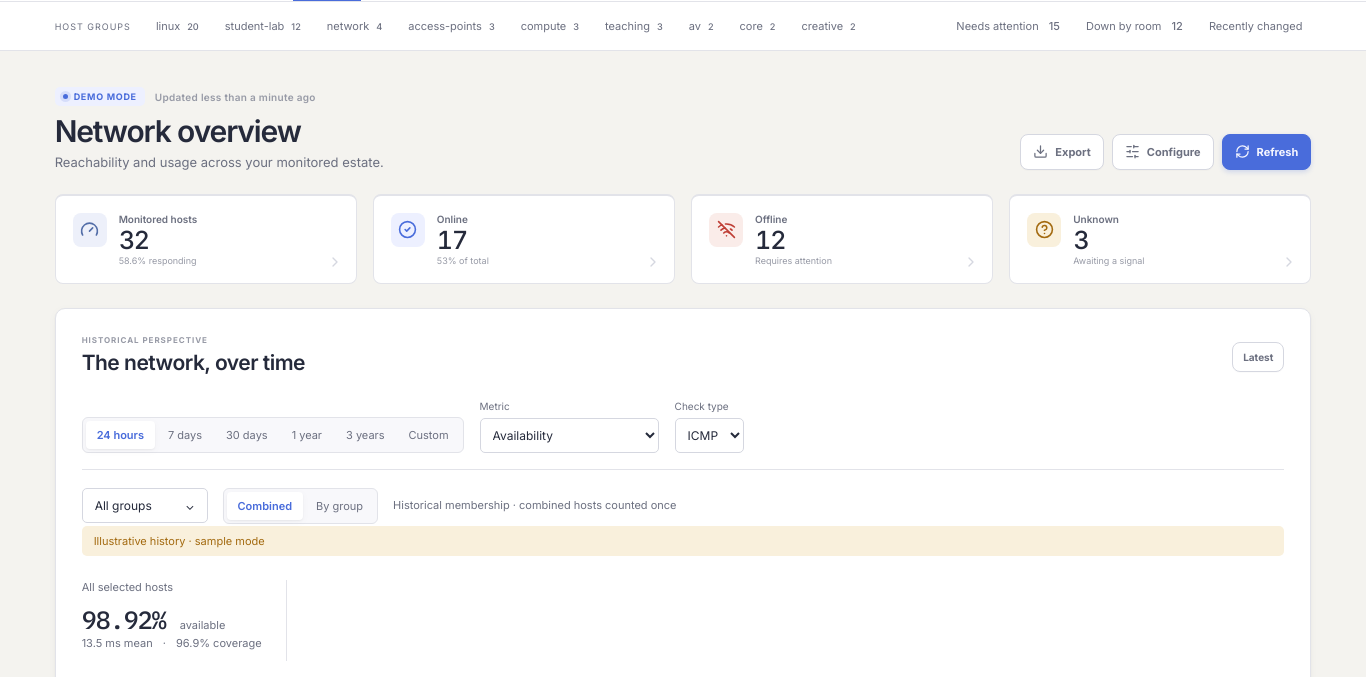
Test: network overview › loads the attention view and can switch to all hosts
Click the button "Monitored hosts 32 58.6% responding".
click(90, 230)  # box [55,194,357,284]
(page scrolled)
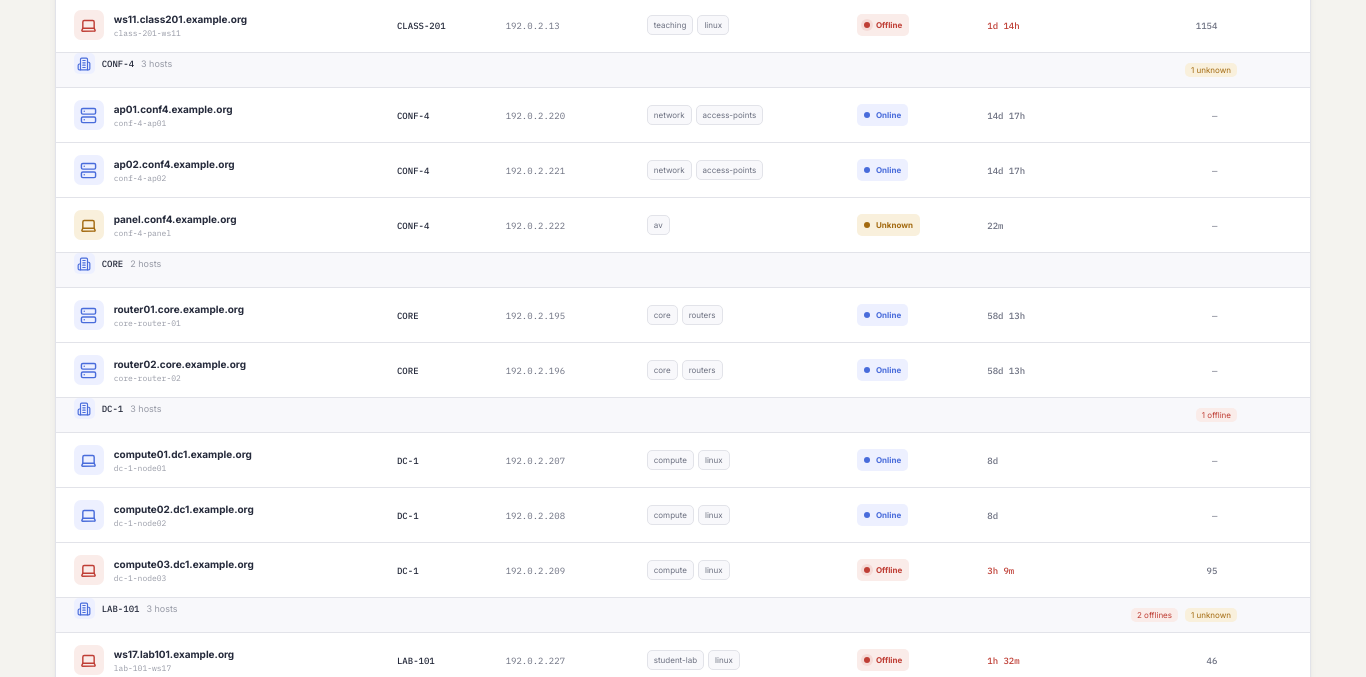
Expected: the text "router01.core.example.org" is shown, [114,303,244,315]
